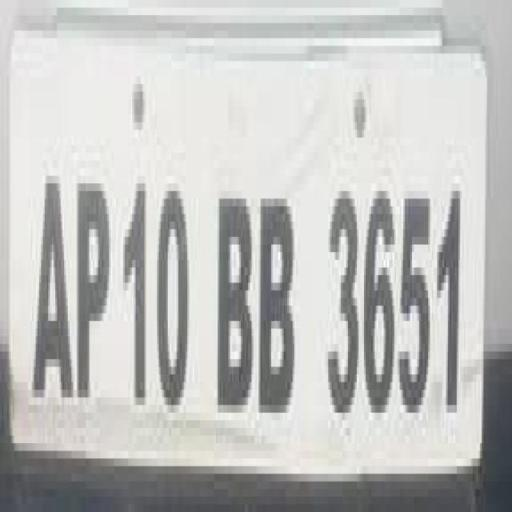number plate: (0, 7, 492, 512)
